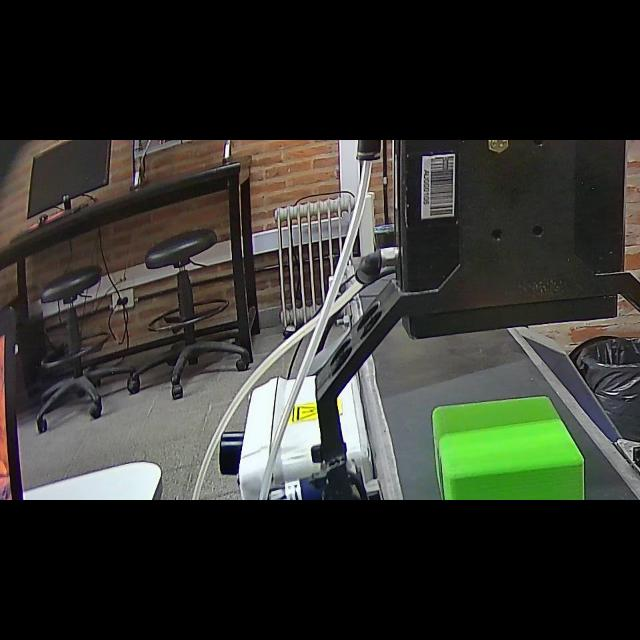greenBox: (428, 388, 592, 499)
